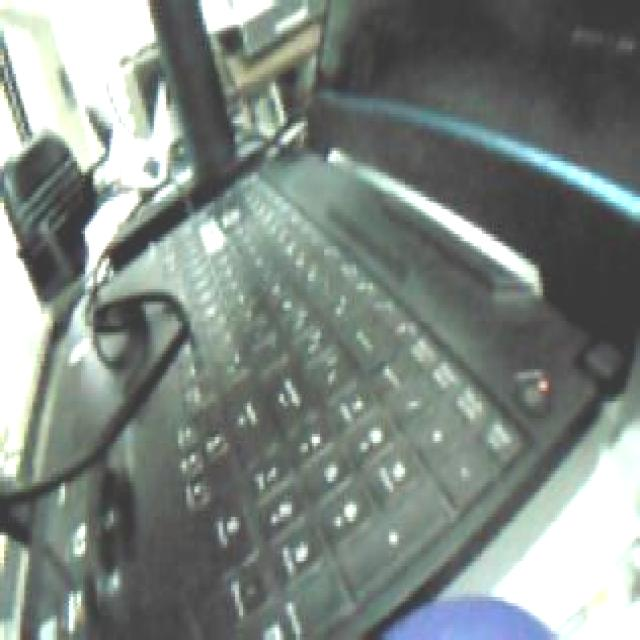BallPurple: (374, 595, 560, 640)
